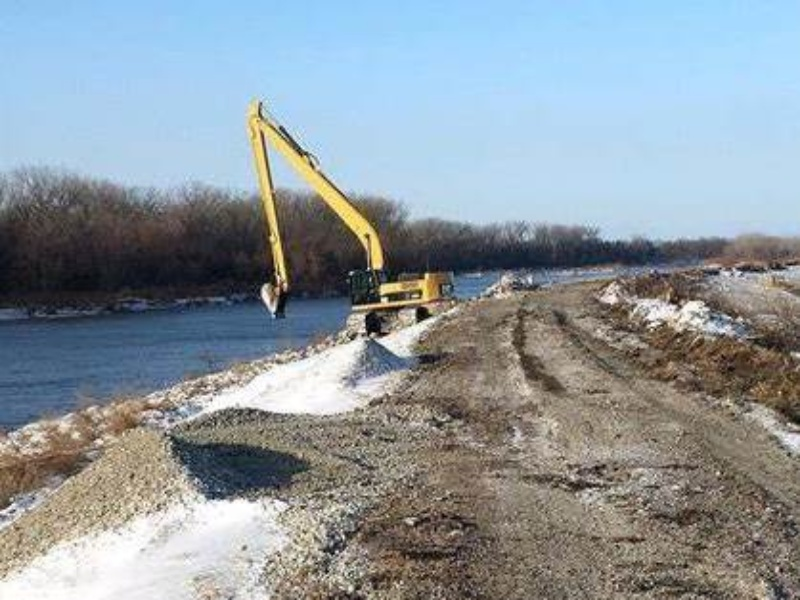excavator: (244, 98, 458, 331)
